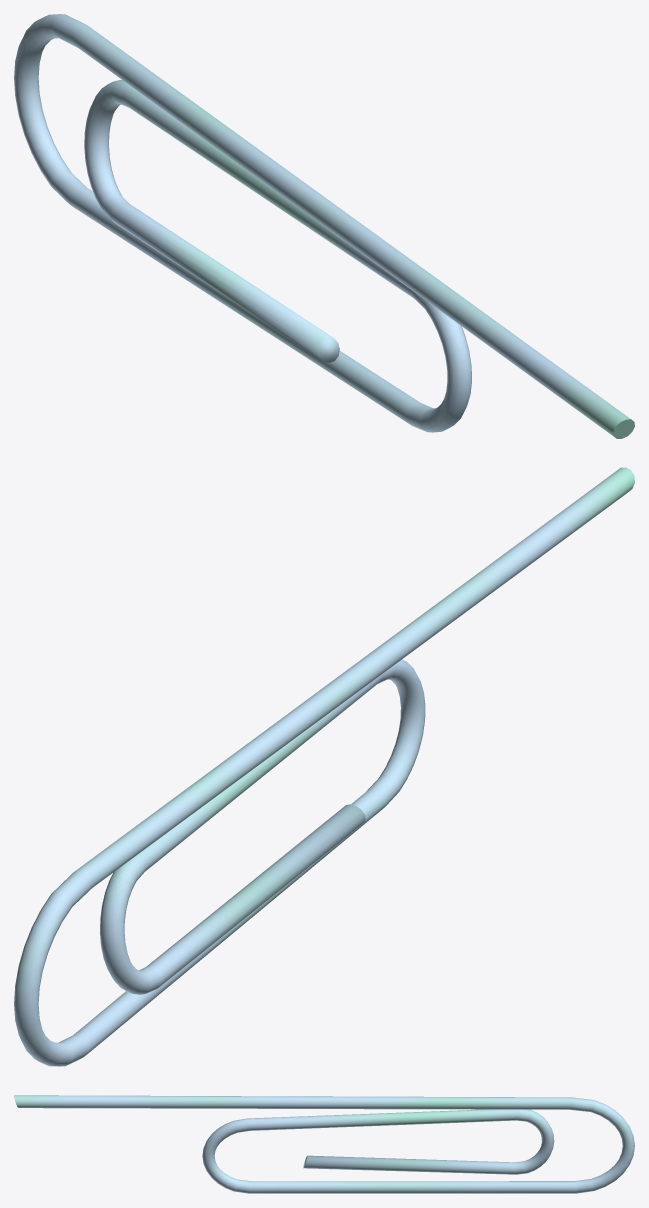
The model's file is Rifle_paperclip_FBX_01.fbx.
3 views of the same model, one above another, from view 1: azimuth 30°, elevation 25°; view 2: azimuth 150°, elevation 25°; view 3: azimuth 270°, elevation 25° (orthographic). The views are drawn at different scales.
Visible parts, largest first — view 1: Rifle; view 2: Rifle; view 3: Rifle.
Part boxes in pixels (bbox=[...]): Rifle: bbox=[14, 14, 634, 438]; Rifle: bbox=[14, 467, 634, 1066]; Rifle: bbox=[14, 1095, 634, 1193].
Bounding box in the file's own units: 28.36 × 83.56 × 485.
